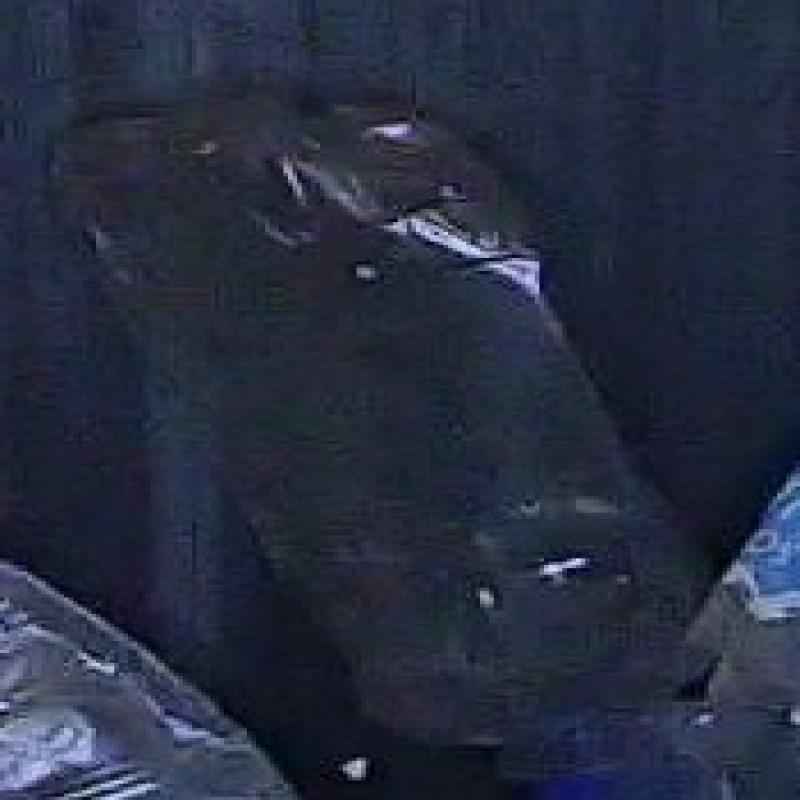botella: (41, 92, 718, 797), (0, 502, 313, 800)
